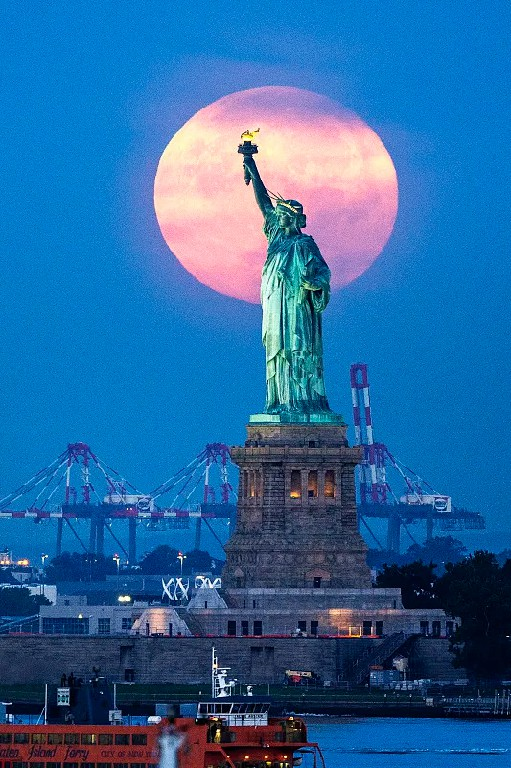SL: (221, 126, 376, 590)
